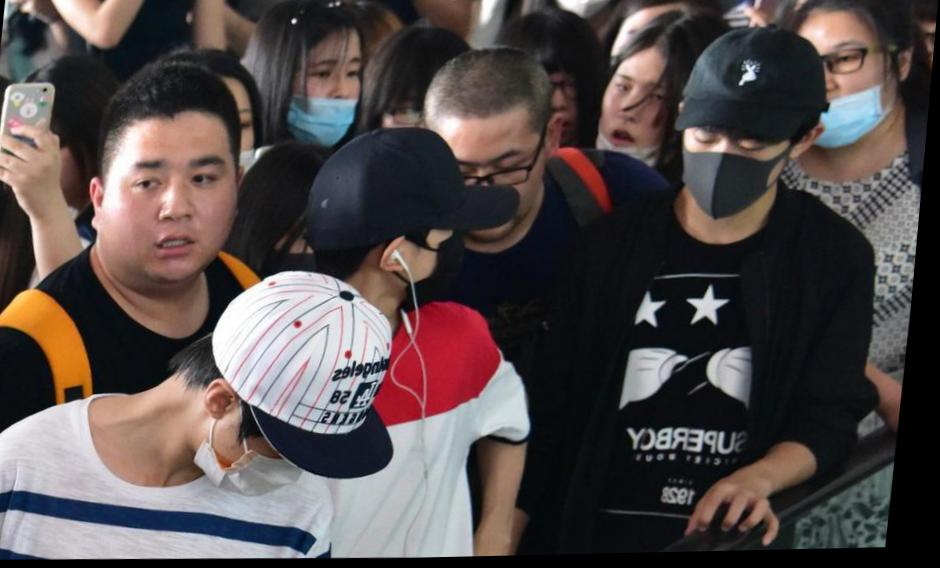NONE: (111, 141, 247, 275), (433, 142, 555, 245), (509, 66, 598, 154)
OK: (680, 115, 796, 228), (201, 414, 326, 500), (400, 205, 480, 318)
WRONG: (777, 34, 893, 156), (592, 63, 687, 183), (281, 54, 371, 157)
